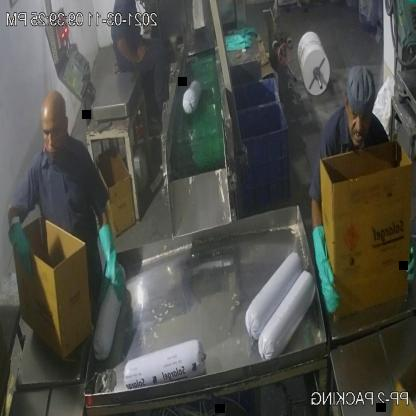glove: (305, 240, 346, 318), (95, 230, 130, 302), (2, 215, 40, 271)
no_glove: (115, 30, 150, 70)
